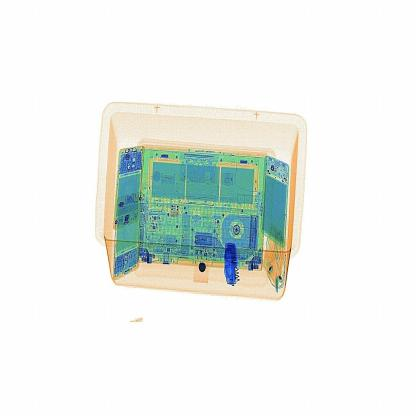scissors: (219, 235, 252, 296)
